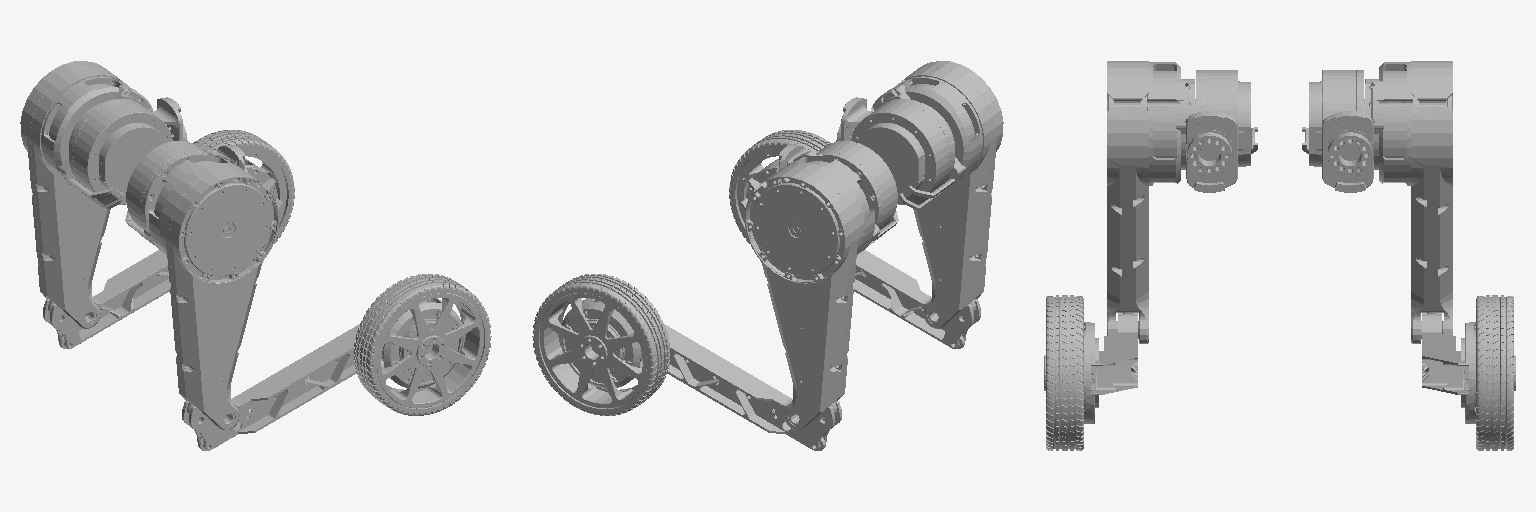
URDF robot description (d1h_description):
<?xml version="1.0" ?>
<!-- =================================================================================== -->
<!-- |    This document was autogenerated by xacro from src/robot_descriptions/d1h_description/xacro/robot.xacro | -->
<!-- |    EDITING THIS FILE BY HAND IS NOT RECOMMENDED                                 | -->
<!-- =================================================================================== -->
<robot name="d1h_description">
  <link name="base_link">
    <visual>
      <origin rpy="0 0 0" xyz="0 0 0"/>
      <geometry>
        <box size="0.001 0.001 0.001"/>
      </geometry>
    </visual>
    <inertial>
      <mass value="0.001"/>
      <origin rpy="0 0 0" xyz="0 0 0"/>
      <inertia ixx="0.0001" ixy="0" ixz="0" iyy="0.0001" iyz="0" izz="0.0001"/>
    </inertial>
  </link>
  <link name="F_base_link">
    <inertial>
      <origin rpy="0 0 0" xyz="0.023013 -0.0021227 -0.019381"/>
      <mass value="12.648"/>
      <inertia ixx="0.029515" ixy="2.3402E-05" ixz="-0.00071897" iyy="0.050606" iyz="1.123E-06" izz="0.056417"/>
    </inertial>
    <visual>
      <origin rpy="0 0 0" xyz="0 0 0"/>
      <geometry>
        <mesh filename="../meshes/single_base_link.STL"/>
      </geometry>
      <material name="">
        <color rgba="0.75294 0.75294 0.75294 1"/>
      </material>
    </visual>
    <collision>
      <origin rpy="0 0 0" xyz="0 0 0"/>
      <geometry>
        <box size="0.375 0.15 0.19"/>
      </geometry>
    </collision>
    <collision>
      <origin rpy="0 0 0" xyz="0 0 -0.12"/>
      <geometry>
        <box size="0.31 0.12 0.04"/>
      </geometry>
    </collision>
  </link>
  <joint name="F_base_joint" type="fixed">
    <origin rpy="0 0 0" xyz="0 0 0"/>
    <parent link="base_link"/>
    <child link="F_base_link"/>
    <axis xyz="0 0 0"/>
  </joint>
  <link name="FL_hip">
    <inertial>
      <origin rpy="0 0 0" xyz="-0.014145 6.1243E-05 0.0053964"/>
      <mass value="1.6985"/>
      <inertia ixx="0.003158" ixy="-1.3834E-07" ixz="5.9868E-05" iyy="0.0020304" iyz="-1.5293E-06" izz="0.0017725"/>
    </inertial>
    <visual>
      <origin rpy="0 0 0" xyz="0 0 0"/>
      <geometry>
        <mesh filename="../meshes/L_hip.STL"/>
      </geometry>
      <material name="">
        <color rgba="0.75294 0.75294 0.75294 1"/>
      </material>
    </visual>
  </link>
  <joint name="FL_hip_joint" type="revolute">
    <origin rpy="1.5708 0 1.5708" xyz="0 0.0775 0"/>
    <parent link="F_base_link"/>
    <child link="FL_hip"/>
    <axis xyz="0 0 1"/>
    <dynamics damping="0" friction="0"/>
    <limit effort="60" lower="-0.7853981633974483" upper="0.7853981633974483" velocity="20"/>
  </joint>
  <link name="FL_thigh">
    <inertial>
      <origin rpy="0 0 0" xyz="0.035356 0.0049257 -0.024803"/>
      <mass value="3.2263"/>
      <inertia ixx="0.0034304" ixy="-0.00055998" ixz="9.4057E-07" iyy="0.012162" iyz="2.6278E-06" izz="0.01465"/>
    </inertial>
    <visual>
      <origin rpy="0 0 0" xyz="0 0 0"/>
      <geometry>
        <mesh filename="../meshes/L_thigh.STL"/>
      </geometry>
      <material name="">
        <color rgba="0.75294 0.75294 0.75294 1"/>
      </material>
    </visual>
    <collision>
      <origin rpy="0 0 0.262" xyz="0.05 0 0"/>
      <geometry>
        <box size="0.21 0.11 0.05"/>
      </geometry>
    </collision>
  </link>
  <joint name="FL_thigh_joint" type="revolute">
    <origin rpy="-1.5708 0 -1.5708" xyz="0.09 0 0"/>
    <parent link="FL_hip"/>
    <child link="FL_thigh"/>
    <axis xyz="0 0 1"/>
    <dynamics damping="0" friction="0"/>
    <limit effort="60" lower="-1.5707963267948966" upper="3.141592653589793" velocity="20"/>
  </joint>
  <link name="FL_calf">
    <inertial>
      <origin rpy="0 0 0" xyz="0.11782 0.0051831 0.012648"/>
      <mass value="0.48008"/>
      <inertia ixx="0.00028596" ixy="0.00014991" ixz="-0.00047417" iyy="0.0044518" iyz="1.8592E-05" izz="0.0045218"/>
    </inertial>
    <visual>
      <origin rpy="0 0 0" xyz="0 0 0"/>
      <geometry>
        <mesh filename="../meshes/L_calf.STL"/>
      </geometry>
      <material name="">
        <color rgba="0.75294 0.75294 0.75294 1"/>
      </material>
    </visual>
    <collision>
      <origin rpy="0 0 -0.08" xyz="0.12 0 0"/>
      <geometry>
        <box size="0.3 0.05 0.02"/>
      </geometry>
    </collision>
  </link>
  <joint name="FL_calf_joint" type="revolute">
    <origin rpy="0 0 0" xyz="0.25 0 0"/>
    <parent link="FL_thigh"/>
    <child link="FL_calf"/>
    <axis xyz="0 0 1"/>
    <dynamics damping="0" friction="0"/>
    <limit effort="60" lower="-2.775" upper="-0.855" velocity="20"/>
  </joint>
  <link name="FL_foot">
    <inertial>
      <origin rpy="0 0 0" xyz="-1.1947E-05 -1.9864E-05 -0.0036281"/>
      <mass value="1.5215"/>
      <inertia ixx="0.0022259" ixy="-1.4306E-07" ixz="-4.8216E-07" iyy="0.0022261" iyz="-6.5528E-07" izz="0.0041464"/>
    </inertial>
    <visual>
      <origin rpy="0 0 0" xyz="0 0 0"/>
      <geometry>
        <mesh filename="../meshes/L_foot.STL"/>
      </geometry>
      <material name="">
        <color rgba="0.75294 0.75294 0.75294 1"/>
      </material>
    </visual>
    <collision>
      <origin rpy="0 0 0" xyz="0 0 0"/>
      <geometry>
        <cylinder length="0.04" radius="0.085"/>
      </geometry>
    </collision>
  </link>
  <joint name="FL_foot_joint" type="revolute">
    <origin rpy="0 0 0" xyz="0.25 0 0.06935"/>
    <parent link="FL_calf"/>
    <child link="FL_foot"/>
    <axis xyz="0 0 1"/>
    <dynamics damping="0" friction="0"/>
    <limit effort="12" lower="-1000000.0" upper="1000000.0" velocity="12.5"/>
  </joint>
  <link name="FR_hip">
    <inertial>
      <origin rpy="0 0 0" xyz="0.014145 6.1222E-05 0.0053964"/>
      <mass value="1.6985"/>
      <inertia ixx="0.003158" ixy="1.3916E-07" ixz="-5.9867E-05" iyy="0.0020304" iyz="-1.5281E-06" izz="0.0017725"/>
    </inertial>
    <visual>
      <origin rpy="0 0 0" xyz="0 0 0"/>
      <geometry>
        <mesh filename="../meshes/R_hip.STL"/>
      </geometry>
      <material name="">
        <color rgba="0.75294 0.75294 0.75294 1"/>
      </material>
    </visual>
  </link>
  <joint name="FR_hip_joint" type="revolute">
    <origin rpy="1.5708 0 1.5708" xyz="0 -0.0775 0"/>
    <parent link="F_base_link"/>
    <child link="FR_hip"/>
    <axis xyz="0 0 1"/>
    <dynamics damping="0" friction="0"/>
    <limit effort="60" lower="-0.7853981633974483" upper="0.7853981633974483" velocity="20"/>
  </joint>
  <link name="FR_thigh">
    <inertial>
      <origin rpy="0 0 0" xyz="0.035356 0.0049257 0.024803"/>
      <mass value="3.2263"/>
      <inertia ixx="0.0034304" ixy="-0.00055998" ixz="-9.4198E-07" iyy="0.012162" iyz="-2.6258E-06" izz="0.01465"/>
    </inertial>
    <visual>
      <origin rpy="0 0 0" xyz="0 0 0"/>
      <geometry>
        <mesh filename="../meshes/R_thigh.STL"/>
      </geometry>
      <material name="">
        <color rgba="0.75294 0.75294 0.75294 1"/>
      </material>
    </visual>
    <collision>
      <origin rpy="0 0 0.262" xyz="0.05 0 0"/>
      <geometry>
        <box size="0.21 0.11 0.05"/>
      </geometry>
    </collision>
  </link>
  <joint name="FR_thigh_joint" type="revolute">
    <origin rpy="-1.5708 0 -1.5708" xyz="-0.09 0 0"/>
    <parent link="FR_hip"/>
    <child link="FR_thigh"/>
    <axis xyz="0 0 1"/>
    <dynamics damping="0" friction="0"/>
    <limit effort="60" lower="-1.5707963267948966" upper="3.141592653589793" velocity="20"/>
  </joint>
  <link name="FR_calf">
    <inertial>
      <origin rpy="0 0 0" xyz="0.11782 0.0051831 -0.012648"/>
      <mass value="0.48008"/>
      <inertia ixx="0.00028596" ixy="0.00014991" ixz="0.00047417" iyy="0.0044518" iyz="-1.8592E-05" izz="0.0045218"/>
    </inertial>
    <visual>
      <origin rpy="0 0 0" xyz="0 0 0"/>
      <geometry>
        <mesh filename="../meshes/R_calf.STL"/>
      </geometry>
      <material name="">
        <color rgba="0.75294 0.75294 0.75294 1"/>
      </material>
    </visual>
    <collision>
      <origin rpy="0 0 -0.08" xyz="0.12 0 0"/>
      <geometry>
        <box size="0.3 0.05 0.02"/>
      </geometry>
    </collision>
  </link>
  <joint name="FR_calf_joint" type="revolute">
    <origin rpy="0 0 0" xyz="0.25 0 0"/>
    <parent link="FR_thigh"/>
    <child link="FR_calf"/>
    <axis xyz="0 0 1"/>
    <dynamics damping="0" friction="0"/>
    <limit effort="60" lower="-2.775" upper="-0.855" velocity="20"/>
  </joint>
  <link name="FR_foot">
    <inertial>
      <origin rpy="0 0 0" xyz="-1.1939E-05 -1.986E-05 0.0036281"/>
      <mass value="1.5215"/>
      <inertia ixx="0.0022259" ixy="-1.4321E-07" ixz="4.8221E-07" iyy="0.0022261" iyz="6.5536E-07" izz="0.0041463"/>
    </inertial>
    <visual>
      <origin rpy="0 0 0" xyz="0 0 0"/>
      <geometry>
        <mesh filename="../meshes/R_foot.STL"/>
      </geometry>
      <material name="">
        <color rgba="0.75294 0.75294 0.75294 1"/>
      </material>
    </visual>
    <collision>
      <origin rpy="0 0 0" xyz="0 0 0"/>
      <geometry>
        <cylinder length="0.04" radius="0.085"/>
      </geometry>
    </collision>
  </link>
  <joint name="FR_foot_joint" type="revolute">
    <origin rpy="0 0 0" xyz="0.25 0 -0.06935"/>
    <parent link="FR_calf"/>
    <child link="FR_foot"/>
    <axis xyz="0 0 1"/>
    <dynamics damping="0" friction="0"/>
    <limit effort="12" lower="-1000000.0" upper="1000000.0" velocity="12.5"/>
  </joint>
</robot>

--- Facts derived from the render (not from the file) ---
Views: 3 orthographic renders of the robot side by side, from view 1: azimuth 30°, elevation 25°; view 2: azimuth 150°, elevation 25°; view 3: azimuth 270°, elevation 25°.
Robot: d1h_description — 10 links, 9 joints (8 revolute, 1 fixed); root link base_link; default pose: joints at zero except 2 at the middle of their limits (FL_calf_joint = -1.81, FR_calf_joint = -1.81).
Visible links, largest first — view 1: FR_thigh, FL_thigh, FR_foot, FL_hip, FR_calf, FL_calf, FR_hip, FL_foot; view 2: FL_thigh, FR_thigh, FL_foot, FR_hip, FL_calf, FR_calf, FL_hip, FR_foot; view 3: FL_thigh, FR_thigh, FL_hip, FR_hip, FL_foot, FR_foot, FL_calf, FR_calf.
Boxes of the visible links, x1,y1,x2,y2 form: FR_thigh: [125, 151, 278, 429]; FL_thigh: [20, 61, 152, 328]; FR_foot: [354, 274, 491, 415]; FL_hip: [69, 97, 187, 204]; FR_calf: [182, 324, 359, 450]; FL_calf: [43, 167, 282, 348]; FR_hip: [126, 141, 247, 229]; FL_foot: [193, 130, 294, 243]; FL_thigh: [745, 151, 898, 429]; FR_thigh: [871, 61, 1003, 328]; FL_foot: [532, 274, 669, 415]; FR_hip: [836, 97, 954, 204]; FL_calf: [664, 324, 841, 450]; FR_calf: [741, 167, 980, 348]; FL_hip: [776, 141, 897, 229]; FR_foot: [729, 130, 830, 243]; FL_thigh: [1302, 61, 1452, 343]; FR_thigh: [1107, 61, 1257, 343]; FL_hip: [1309, 70, 1373, 192]; FR_hip: [1186, 70, 1250, 192]; FL_foot: [1464, 295, 1515, 450]; FR_foot: [1044, 295, 1095, 450]; FL_calf: [1422, 313, 1468, 423]; FR_calf: [1091, 313, 1137, 423].
Size in the robot's own frame: 0.3983 by 0.5186 by 0.3668 metres.
Meshes: 9 distinct files referenced, 8 mesh visuals loaded (8 binary STL); not drawn: 1 (reference not matched to a file when rendering).
